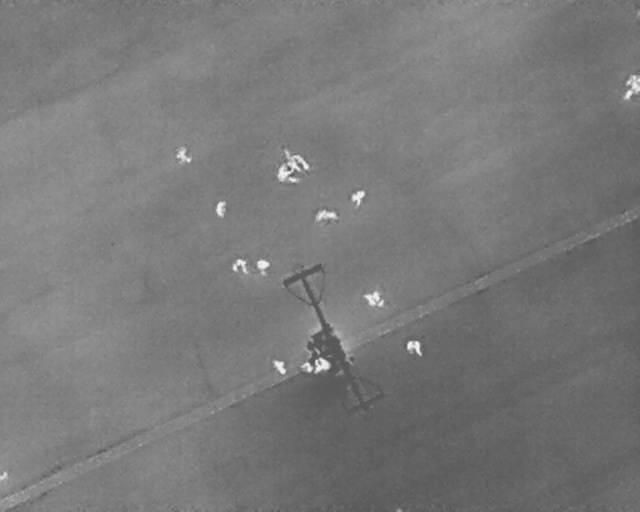Person: (280, 138, 312, 177), (276, 162, 300, 185), (623, 70, 640, 102), (270, 354, 290, 376), (362, 290, 386, 307), (314, 207, 339, 222), (175, 146, 193, 164), (406, 338, 423, 357), (351, 189, 367, 207), (231, 259, 248, 275), (256, 258, 271, 275), (314, 358, 331, 373), (215, 199, 228, 218)
